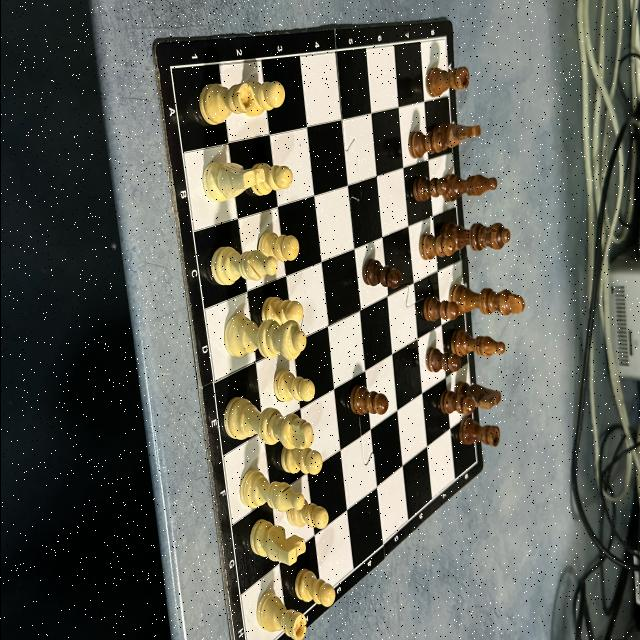Black-Bishop: (448, 331, 505, 360), (441, 173, 496, 200)
Black-King: (448, 284, 524, 316)
Black-Knight: (434, 121, 480, 149), (457, 383, 502, 409)
Black-Pawn: (362, 258, 400, 291), (350, 386, 388, 416), (438, 390, 474, 414), (420, 233, 452, 260), (409, 132, 444, 156), (422, 298, 457, 322), (426, 350, 462, 372), (412, 178, 448, 200)
Black-Queen: (443, 219, 511, 253)
Black-Rook: (424, 64, 469, 96), (458, 419, 499, 447)
White-Bishop: (240, 470, 304, 512), (211, 246, 277, 284)
White-King: (222, 398, 314, 450)
White-Knight: (203, 161, 264, 200), (250, 521, 304, 565)
White-Pawn: (240, 81, 286, 117), (294, 570, 335, 606), (252, 162, 292, 196), (273, 370, 315, 402), (256, 233, 300, 263), (260, 297, 303, 327), (280, 446, 320, 476), (286, 501, 328, 527)
White-Queen: (222, 316, 306, 362)
White-Rook: (253, 596, 307, 640), (198, 84, 254, 122)
